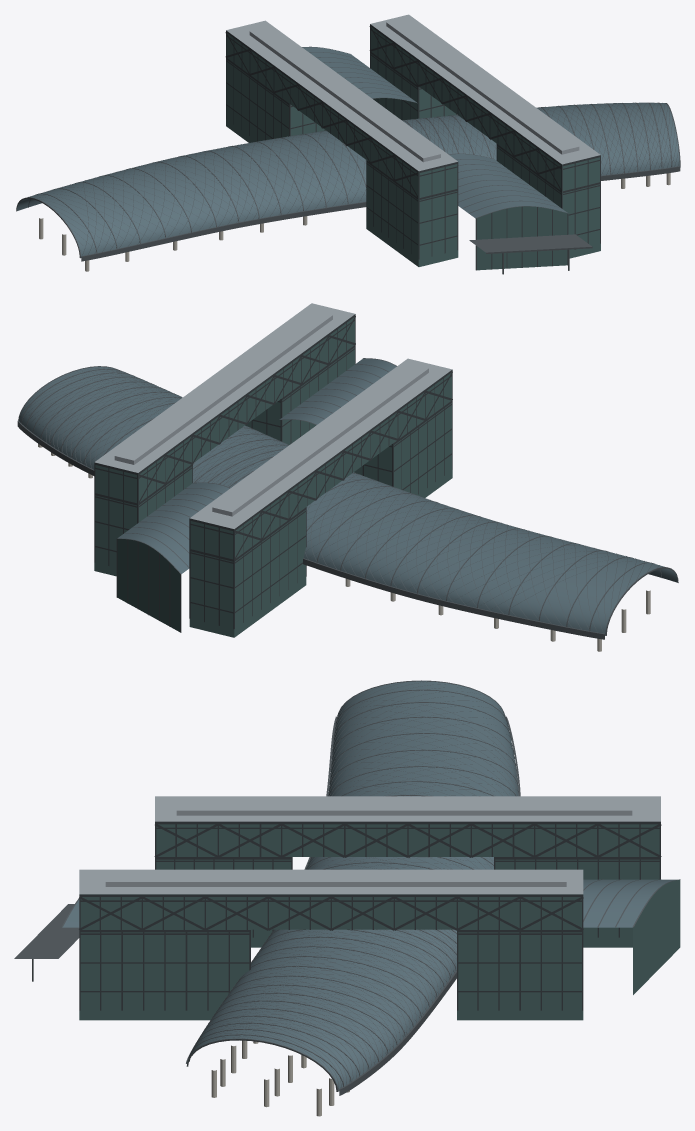
Rendered from berlin-hauptbahnhof.detail.glb.
The picture shows the model from 3 angles, top to bottom: view 1: azimuth 30°, elevation 25°; view 2: azimuth 150°, elevation 25°; view 3: azimuth 270°, elevation 25°; orthographic projection. The views are drawn at different scales.
Visible parts, largest first — view 1: Berlin Hauptbahnhof; view 2: Berlin Hauptbahnhof; view 3: Berlin Hauptbahnhof.
Part boxes in pixels (box(x1,y1,x2,y2)): Berlin Hauptbahnhof: box(16, 14, 680, 274); Berlin Hauptbahnhof: box(17, 303, 678, 651); Berlin Hauptbahnhof: box(14, 680, 680, 1116).
Bounding box in the file's own units: 318 × 51.9 × 240.
